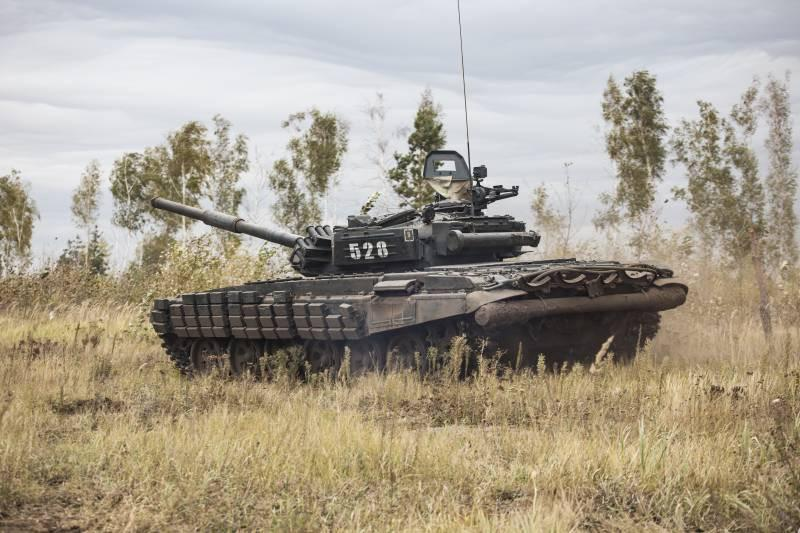tank: (150, 150, 688, 376)
